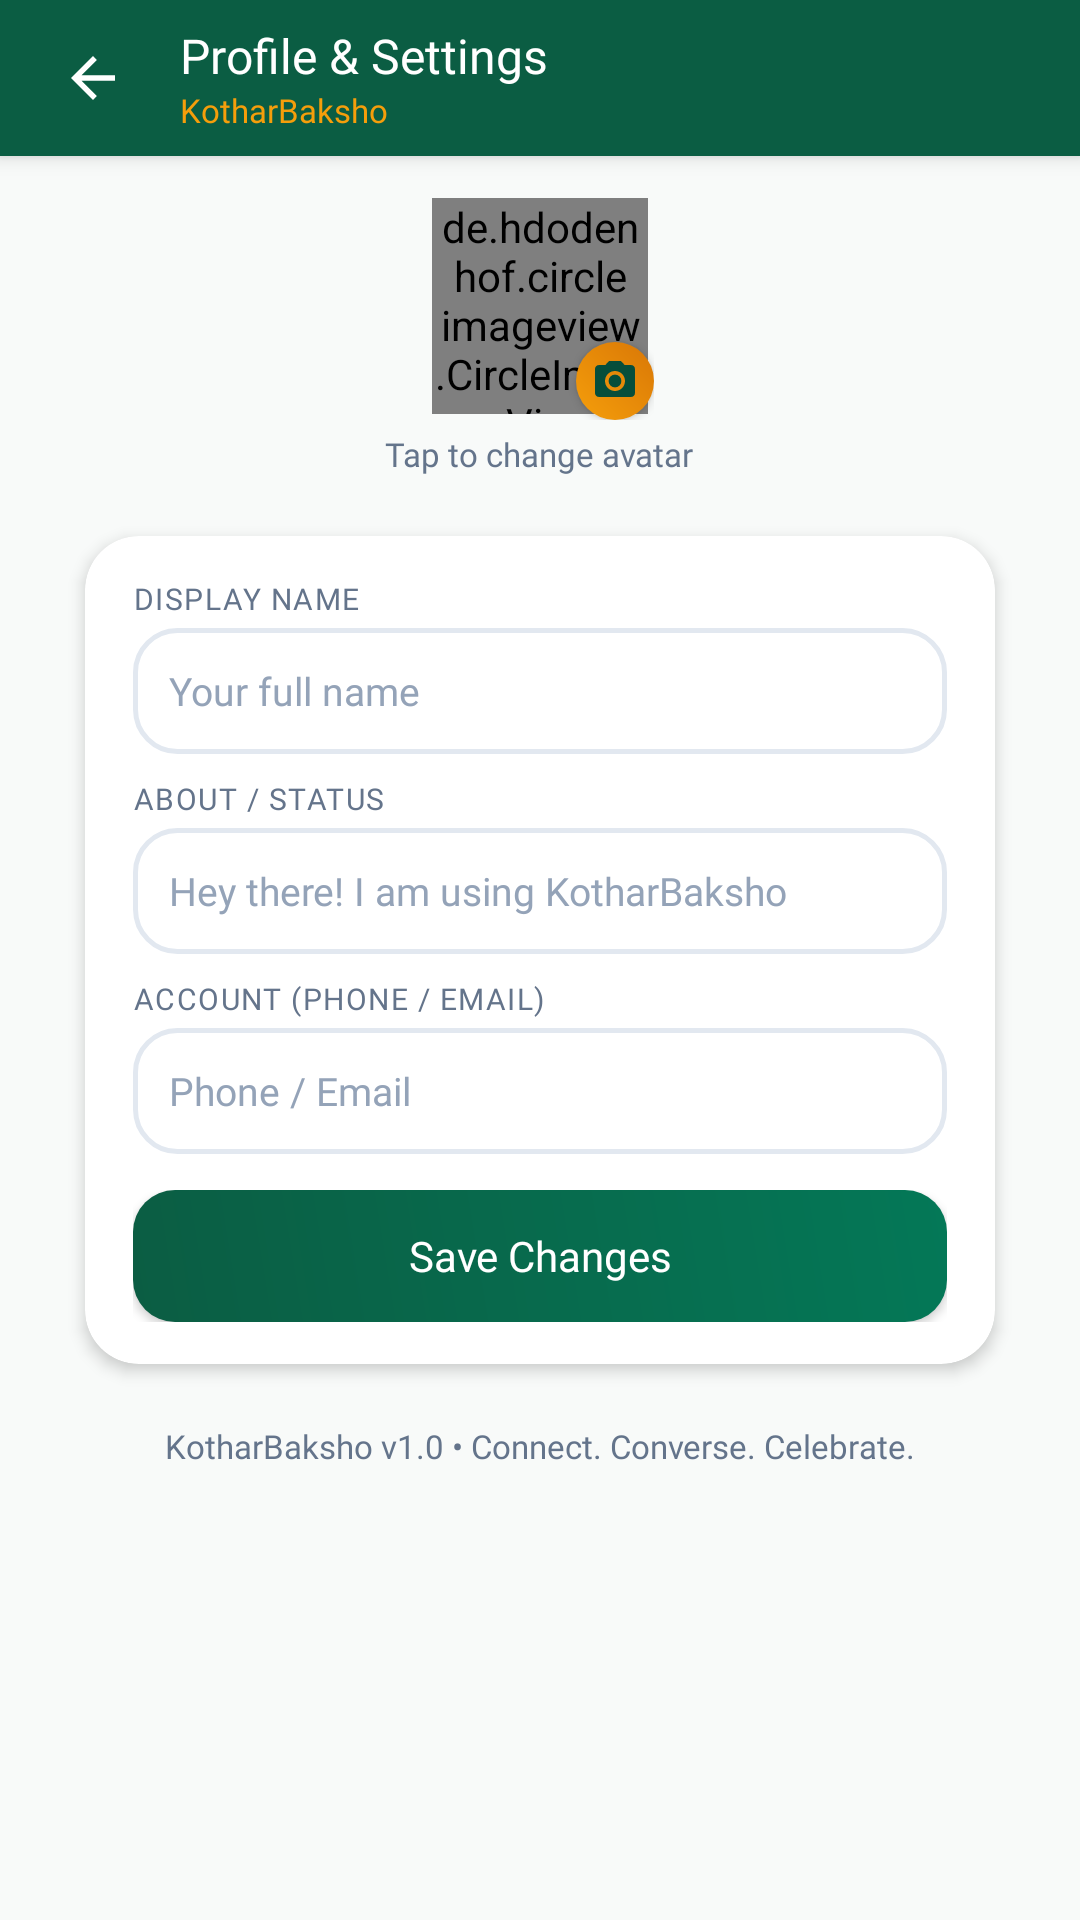

Locate icon controls on the screen. Image size 1080px×1920px, boxes as (x1, y1, x2, y2).
Back: (71, 56, 115, 100)
